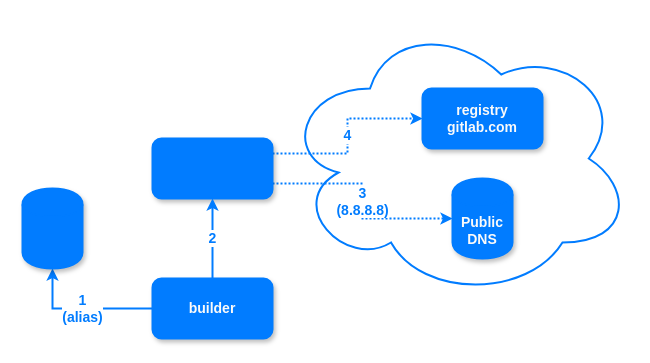
Image size: 650x363. Some labels were removed from this diagram. Here are the shapes that lost their labels. From the top down, the centre of each, then its label:
At (x=213, y=169): "gitlab-cache".
At (x=53, y=229): "Docker DNS".
